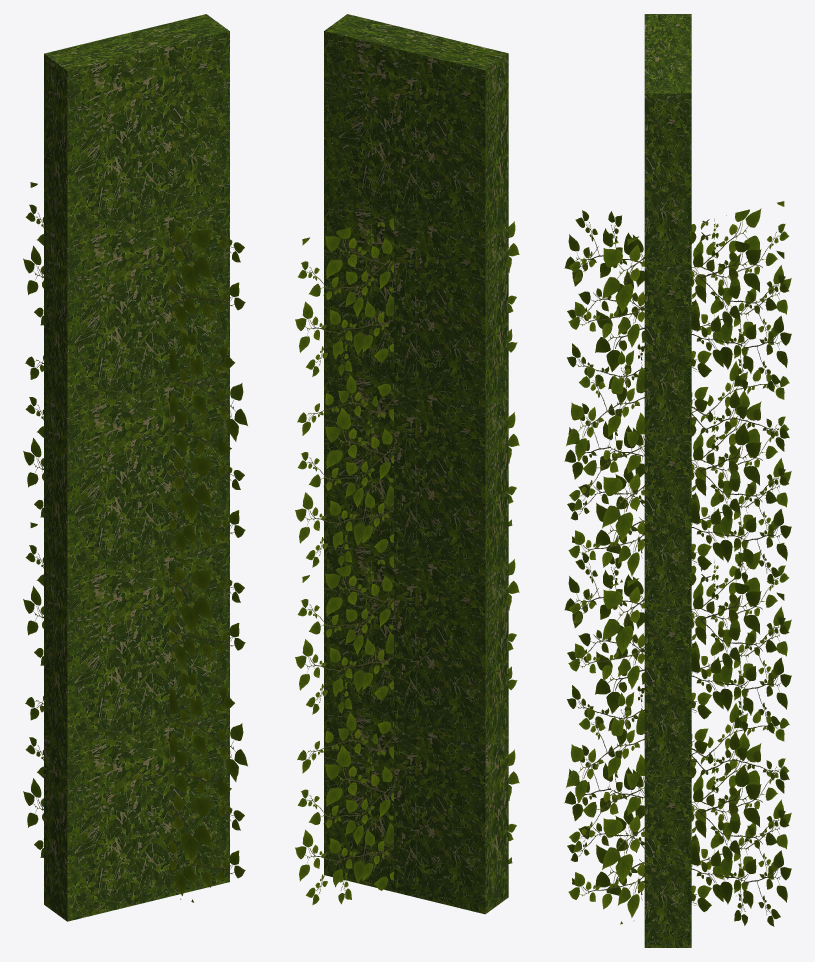
Rendered from OU_AR_Bush_01_D.fbx.
The picture shows the model from 3 angles, left to right: view 1: azimuth 30°, elevation 25°; view 2: azimuth 150°, elevation 25°; view 3: azimuth 270°, elevation 25°; orthographic projection.
Parts seen in each view (by area): view 1: Plane.005; view 2: Plane.005; view 3: Plane.005.
Part boxes in pixels (x1,y1,x2,y2): Plane.005: [23, 14, 247, 921]; Plane.005: [295, 14, 519, 914]; Plane.005: [564, 14, 791, 947].
Size of the model in its own units: 100 by 500 by 130.
